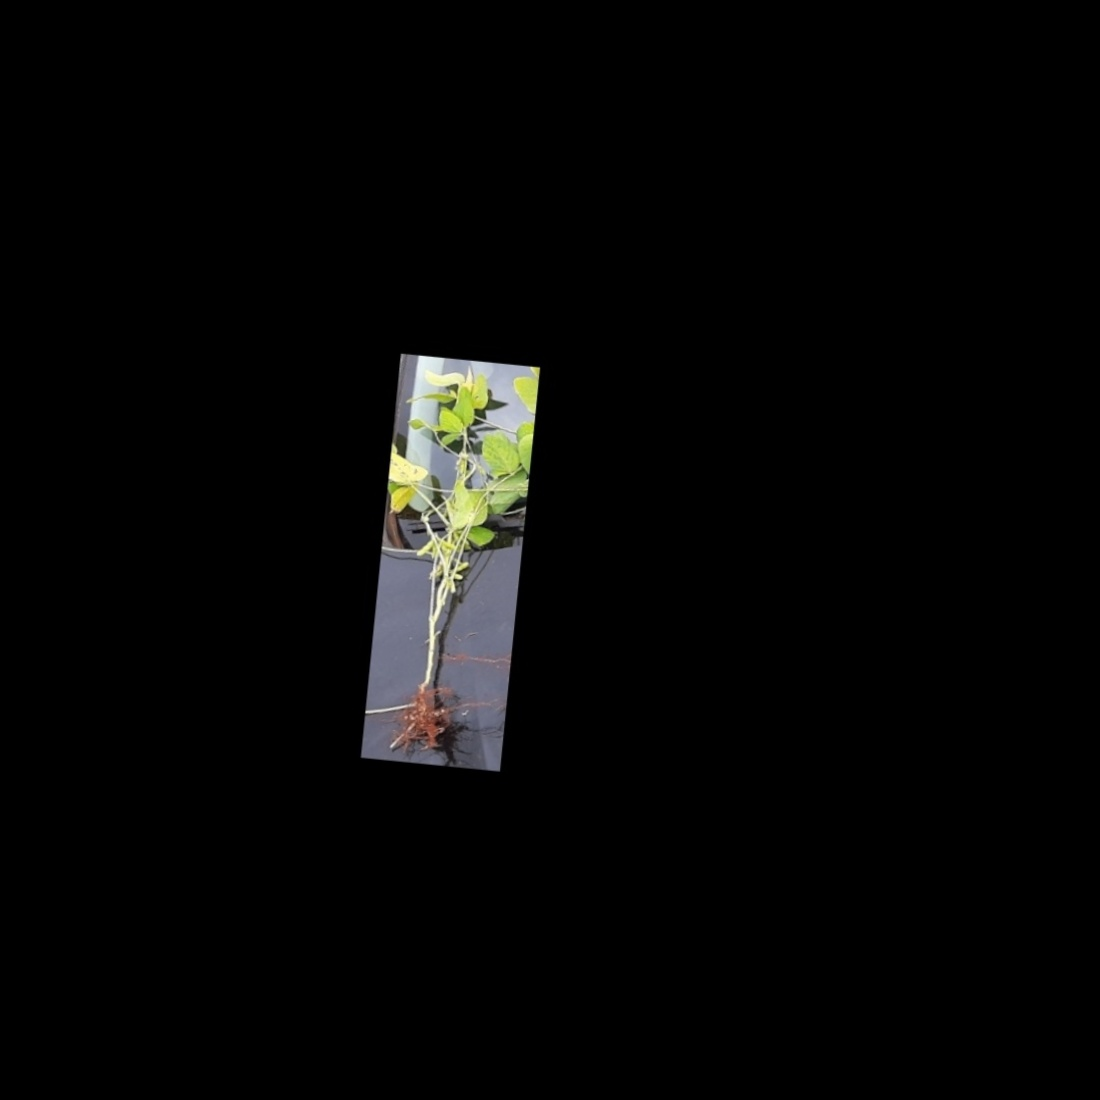pod: (413, 535, 436, 560), (455, 558, 471, 575), (447, 578, 459, 596)
soy: (366, 368, 528, 757)
